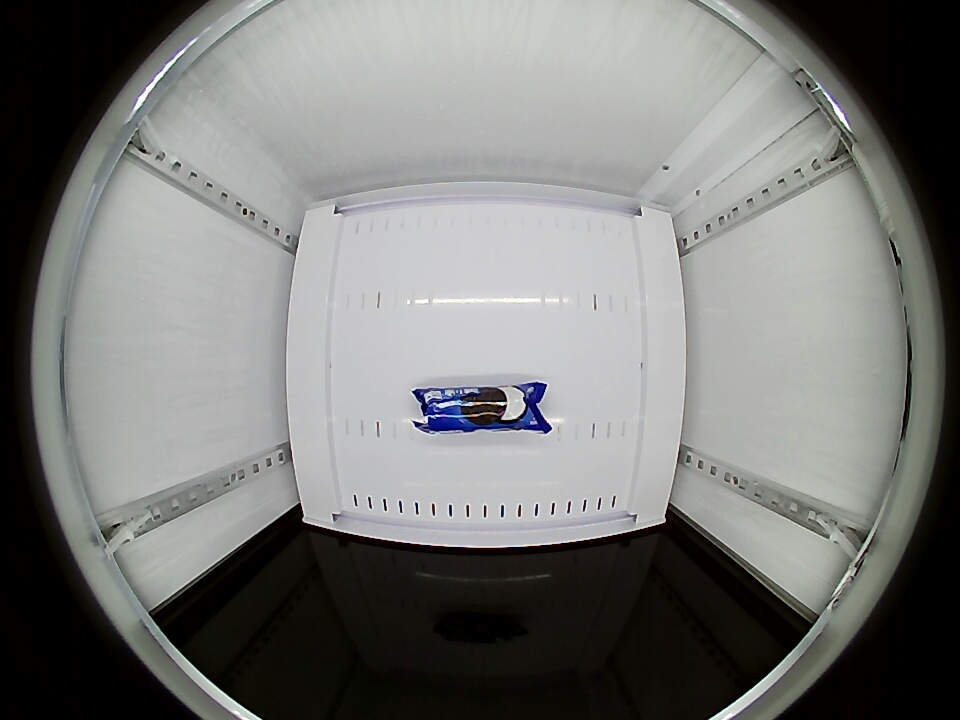aoliao: (414, 384, 549, 435)
